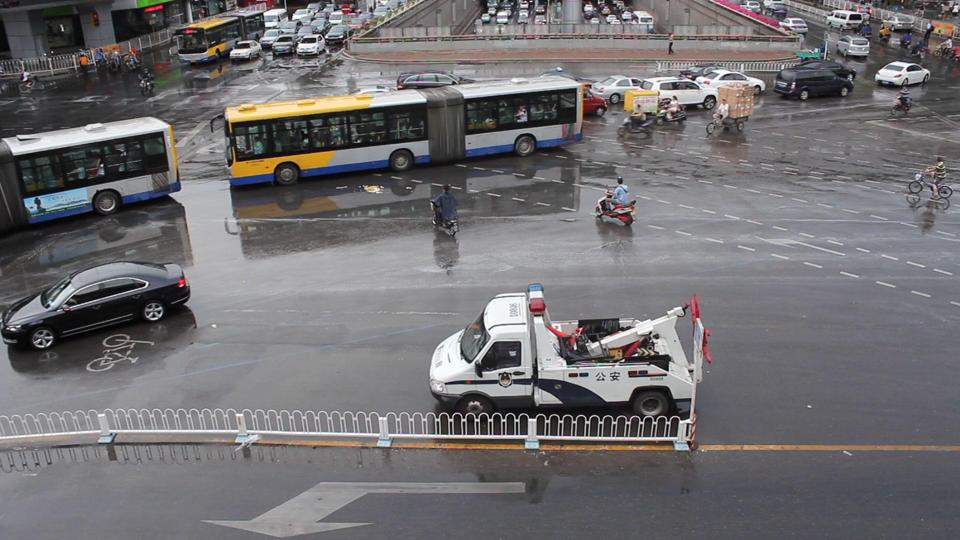Bus: (228, 75, 581, 184)
Car: (1, 259, 191, 350), (639, 75, 718, 109), (772, 67, 851, 100), (694, 68, 763, 97), (589, 73, 653, 104), (786, 59, 853, 82), (677, 63, 734, 87)
Truck: (428, 285, 695, 420)
